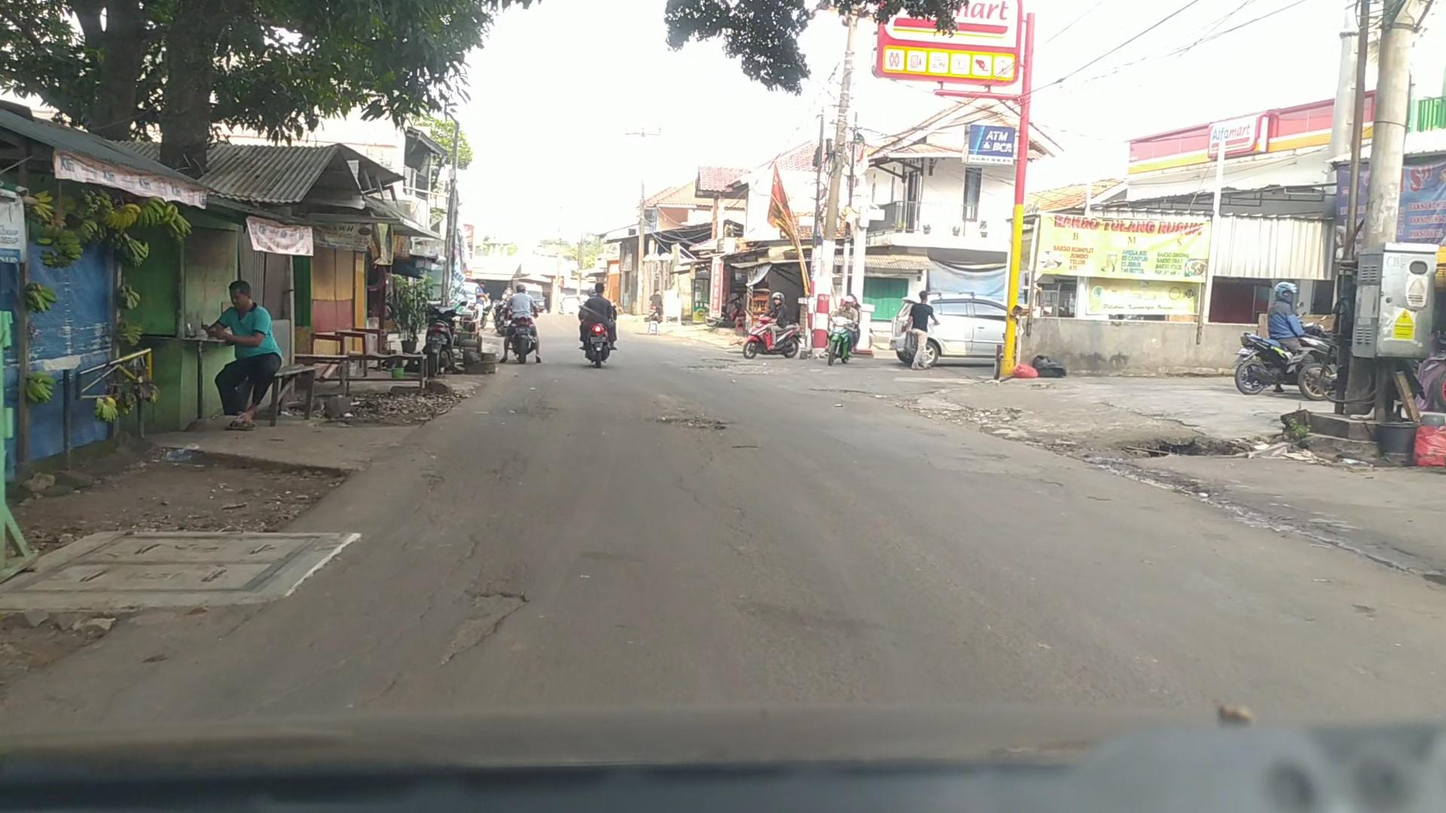pothole: (653, 417, 727, 431)
